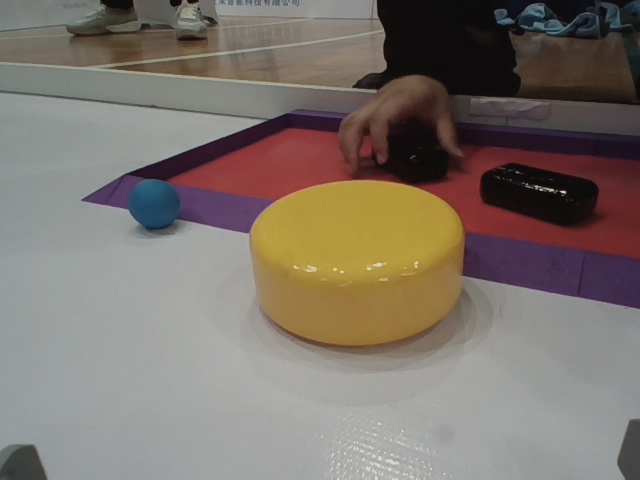black: (475, 161, 609, 230), (343, 121, 456, 186)
blue: (120, 164, 173, 234)
kuang: (83, 104, 637, 322)
yellow: (248, 177, 468, 364)
